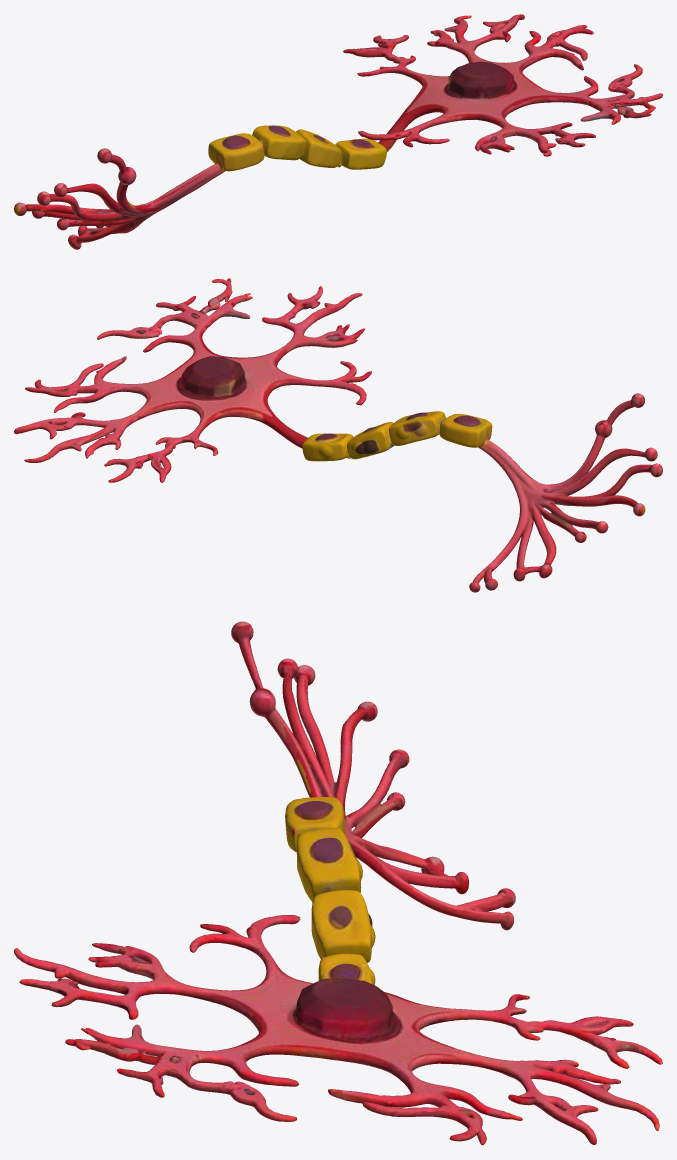
The model's file is esclerosis-multiple.glb.
3 renders of one model, top to bottom at view 1: azimuth 30°, elevation 25°; view 2: azimuth 150°, elevation 25°; view 3: azimuth 270°, elevation 25°, orthographic. The views are drawn at different scales.
Visible parts, largest first — view 1: EsclerosisMultiple; view 2: EsclerosisMultiple; view 3: EsclerosisMultiple.
Boxes of the visible parts, x1,y1,x2,y2 form: EsclerosisMultiple: [14, 14, 662, 249]; EsclerosisMultiple: [14, 278, 662, 592]; EsclerosisMultiple: [14, 621, 662, 1145].
Bounding box in the file's own units: 1 × 0.2562 × 0.6124.
1 material, 1 textured.
